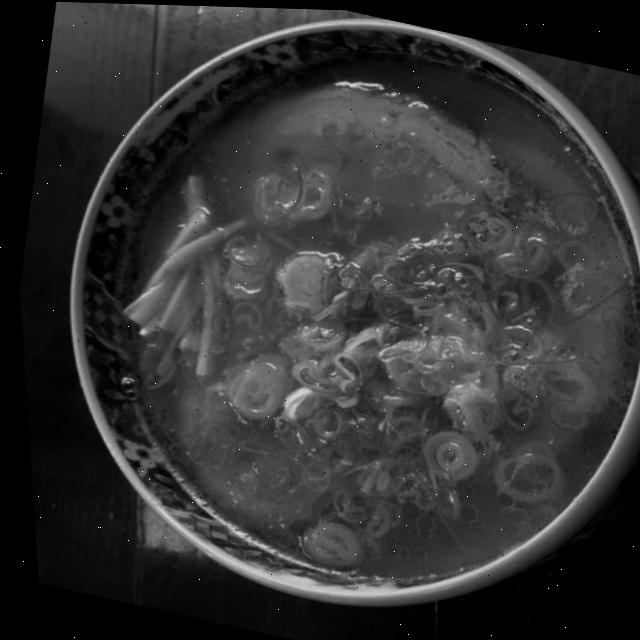面条主食: (37, 1, 640, 638)
